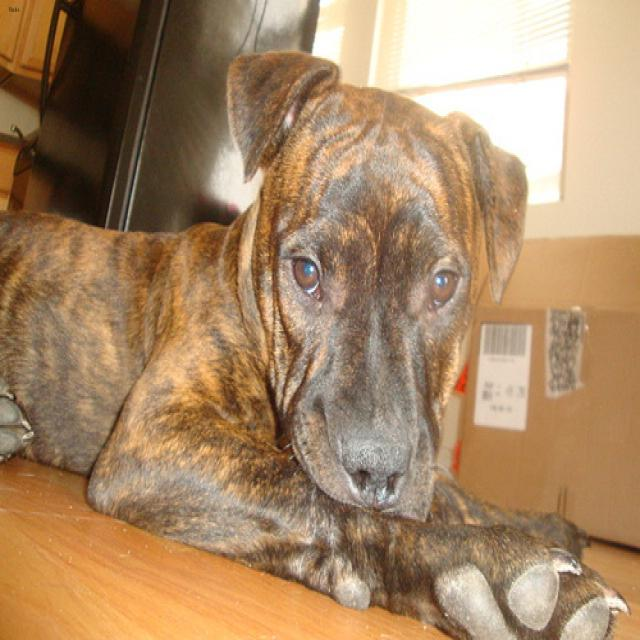dog-american_pit_bull_terrier: (1, 39, 637, 637)
